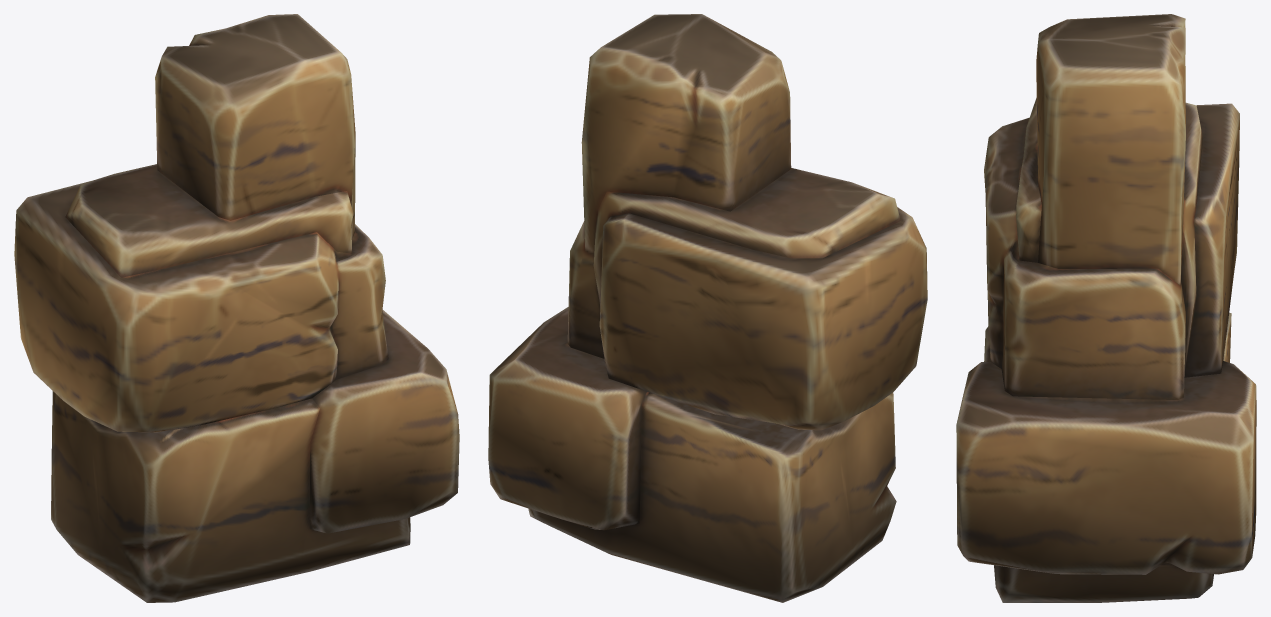
Rendered from SM_Gem_EyeOfTiger_006.fbx.
The picture shows the model from 3 angles, left to right: view 1: azimuth 30°, elevation 25°; view 2: azimuth 150°, elevation 25°; view 3: azimuth 270°, elevation 25°; orthographic projection. The views are drawn at different scales.
Parts seen in each view (by area): view 1: SM_Gem_EyeOfTiger_006; view 2: SM_Gem_EyeOfTiger_006; view 3: SM_Gem_EyeOfTiger_006.
Part boxes in pixels (x1=…): SM_Gem_EyeOfTiger_006: x1=14, y1=14, x2=459, y2=602; SM_Gem_EyeOfTiger_006: x1=488, y1=14, x2=927, y2=602; SM_Gem_EyeOfTiger_006: x1=956, y1=14, x2=1256, y2=602.
Bounding box in the file's own units: 46.36 × 66.29 × 34.34.
